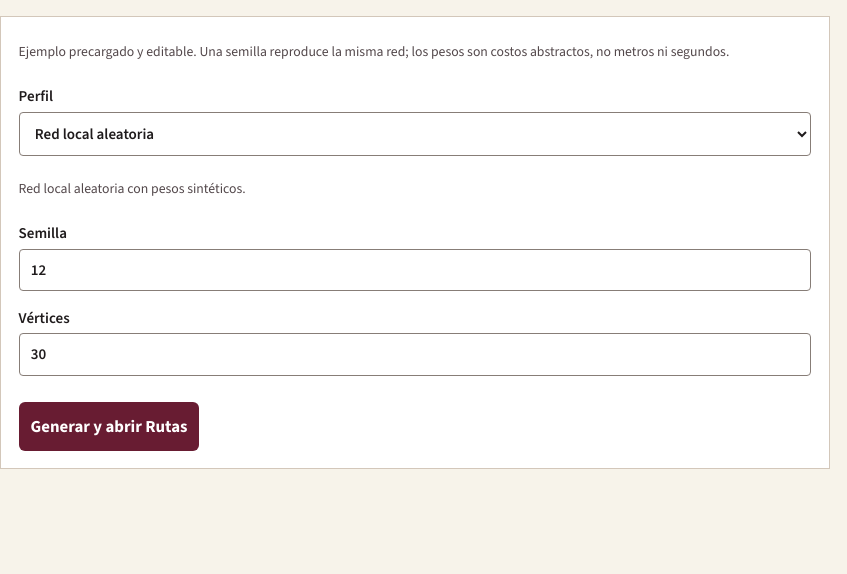
it: Generador editable › muestra error en vez de sustituir silenciosamente un valor vacío
Clear the number field labelled "Vértices" at (415, 355), box x1=19 y1=334 x2=811 y2=376
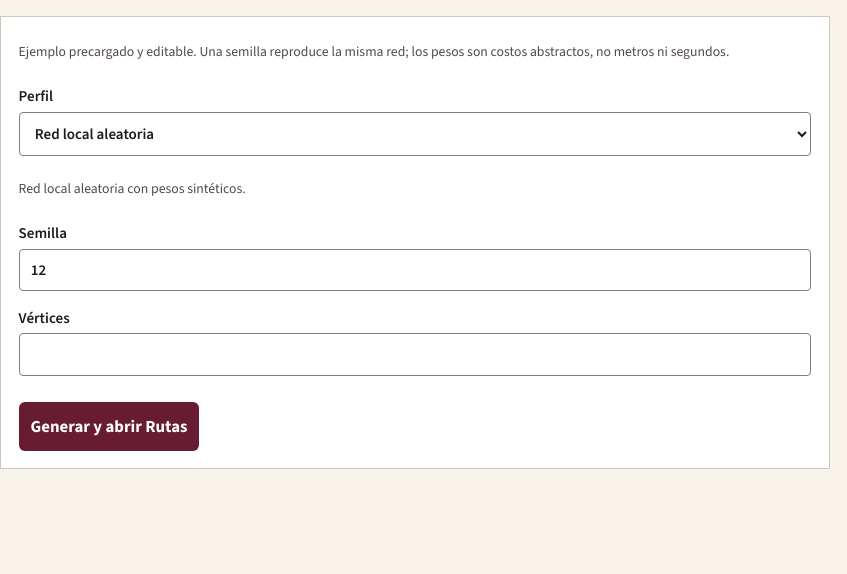
Click the button "Generar y abrir Rutas" at (109, 426), box x1=19 y1=402 x2=200 y2=451
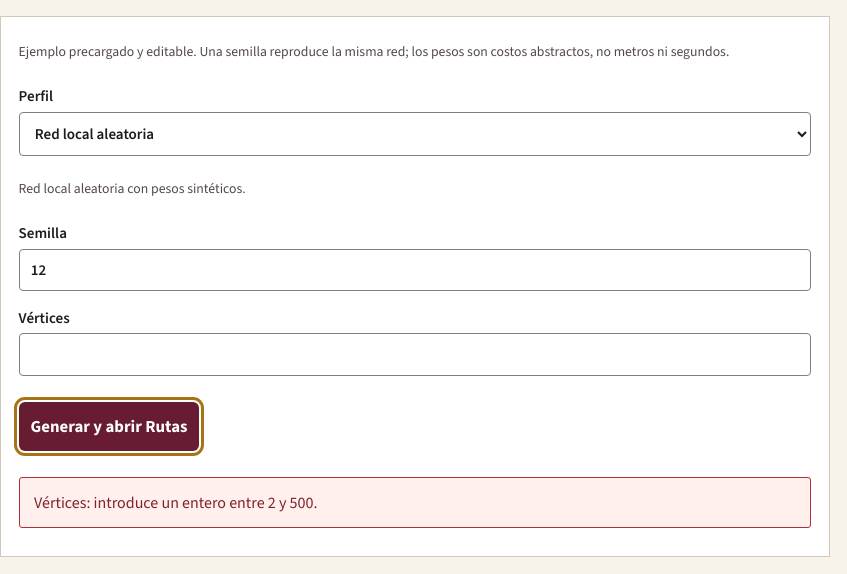
Expected: the message "Vértices: introduce un entero entre 2 y 500." is shown, x1=19 y1=477 x2=811 y2=528
